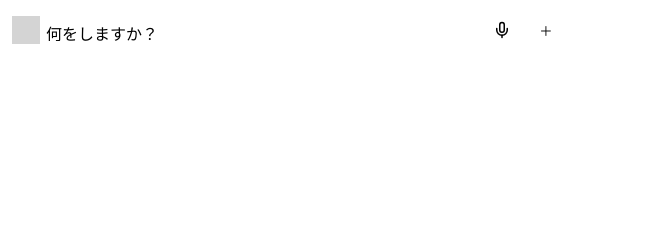
Test case: work surface inside the dock (§4.4 / §6) › keeps the progress inside the dock instead of pushing to the full app
# working 面へ移るには対話状態も進んでいる必要がある
Type "商談準備して" into the text box named "依頼を入力".
click(262, 30); type("商談準備して")  # box [44,19,480,41]
Then press Enter
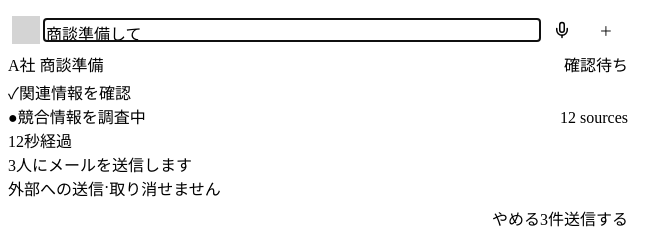
Result: the heading "A社 商談準備" is shown at [8,52,104,76]
Result: the text "12 sources" is shown at [560,109,628,127]
